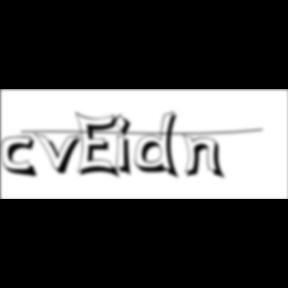E: (76, 110, 124, 182)
c: (2, 136, 42, 180)
d: (135, 110, 185, 182)
i: (115, 112, 139, 180)
n: (182, 132, 228, 181)
v: (34, 131, 88, 177)
